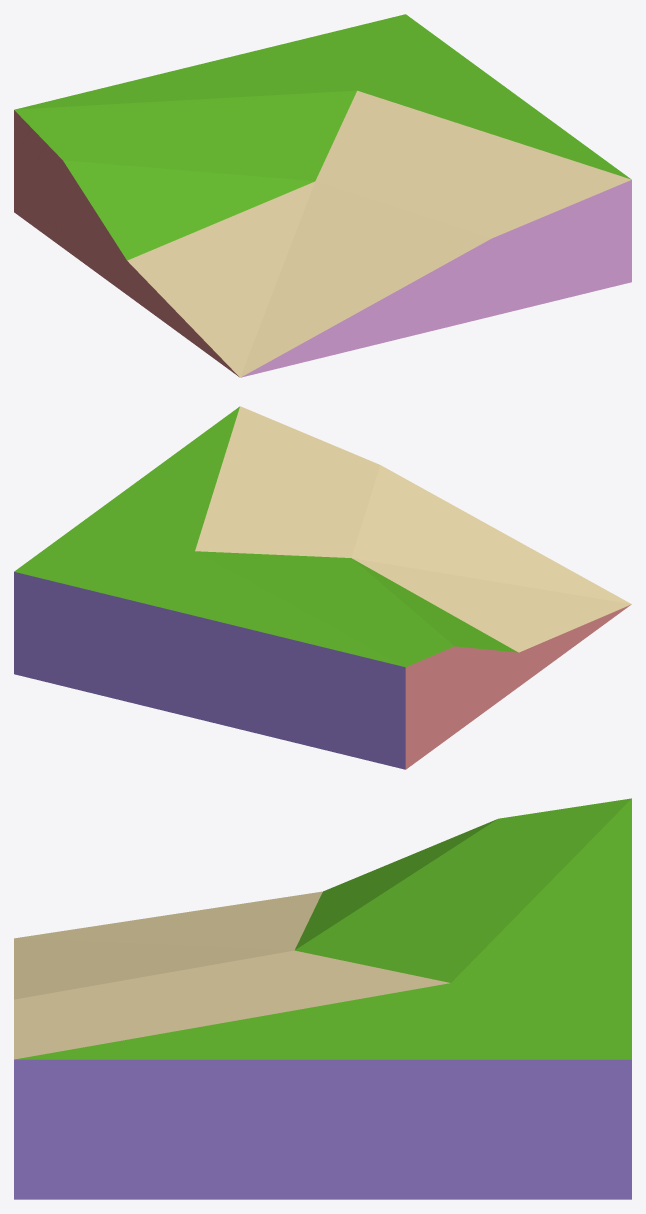
File: Path_Terrain_Transition_Grass_Side_Curve_1x1.glb
The picture shows the model from 3 angles, top to bottom: view 1: azimuth 30°, elevation 25°; view 2: azimuth 150°, elevation 25°; view 3: azimuth 270°, elevation 25°; orthographic projection. The views are drawn at different scales.
Parts seen in each view (by area): view 1: Path_Terrain_Transition_Grass_Side_Curve_1x1; view 2: Path_Terrain_Transition_Grass_Side_Curve_1x1; view 3: Path_Terrain_Transition_Grass_Side_Curve_1x1.
Part boxes in pixels (x1,y1,x2,y2): Path_Terrain_Transition_Grass_Side_Curve_1x1: [14, 14, 631, 377]; Path_Terrain_Transition_Grass_Side_Curve_1x1: [14, 406, 631, 769]; Path_Terrain_Transition_Grass_Side_Curve_1x1: [14, 798, 631, 1199].
Size of the model in its own units: 100 by 25 by 100.
